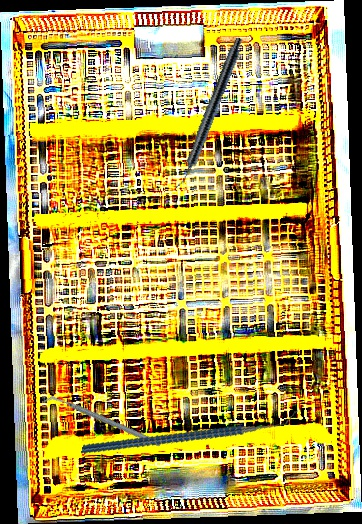Chopper: (80, 366, 299, 497), (43, 360, 162, 483)
Handpiece: (172, 35, 246, 192)
